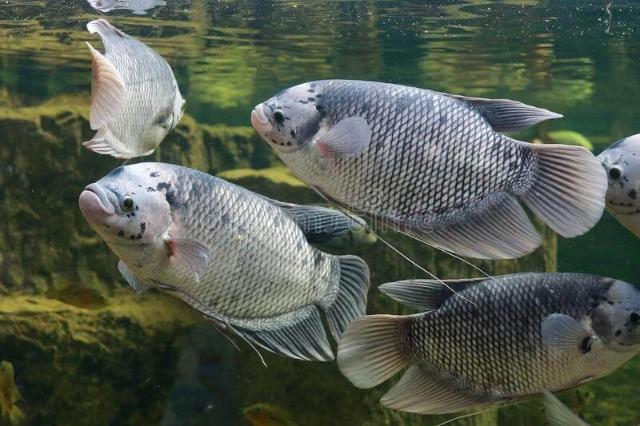Mulut: (66, 167, 122, 239), (234, 98, 280, 138)
Sirip Anal: (375, 184, 545, 274), (222, 300, 342, 376), (371, 359, 491, 419), (72, 122, 148, 172)
Sirip Dada: (305, 112, 387, 180), (531, 301, 599, 377), (154, 225, 228, 290), (99, 248, 163, 308)
Sirip Ekor: (506, 115, 618, 249), (332, 303, 424, 399), (312, 240, 386, 356), (68, 32, 136, 138)
Sirip Punggung: (429, 74, 577, 146), (240, 181, 364, 257), (376, 262, 516, 314), (72, 6, 142, 56)
